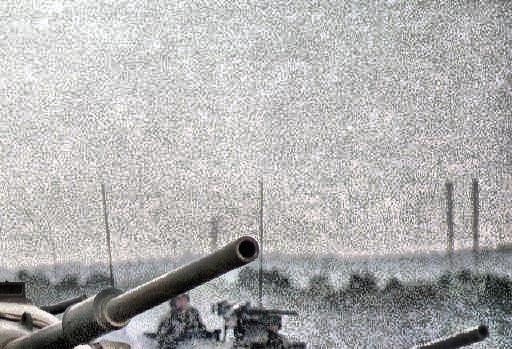tanks: (1, 239, 257, 349), (144, 305, 308, 349), (413, 327, 487, 349)
